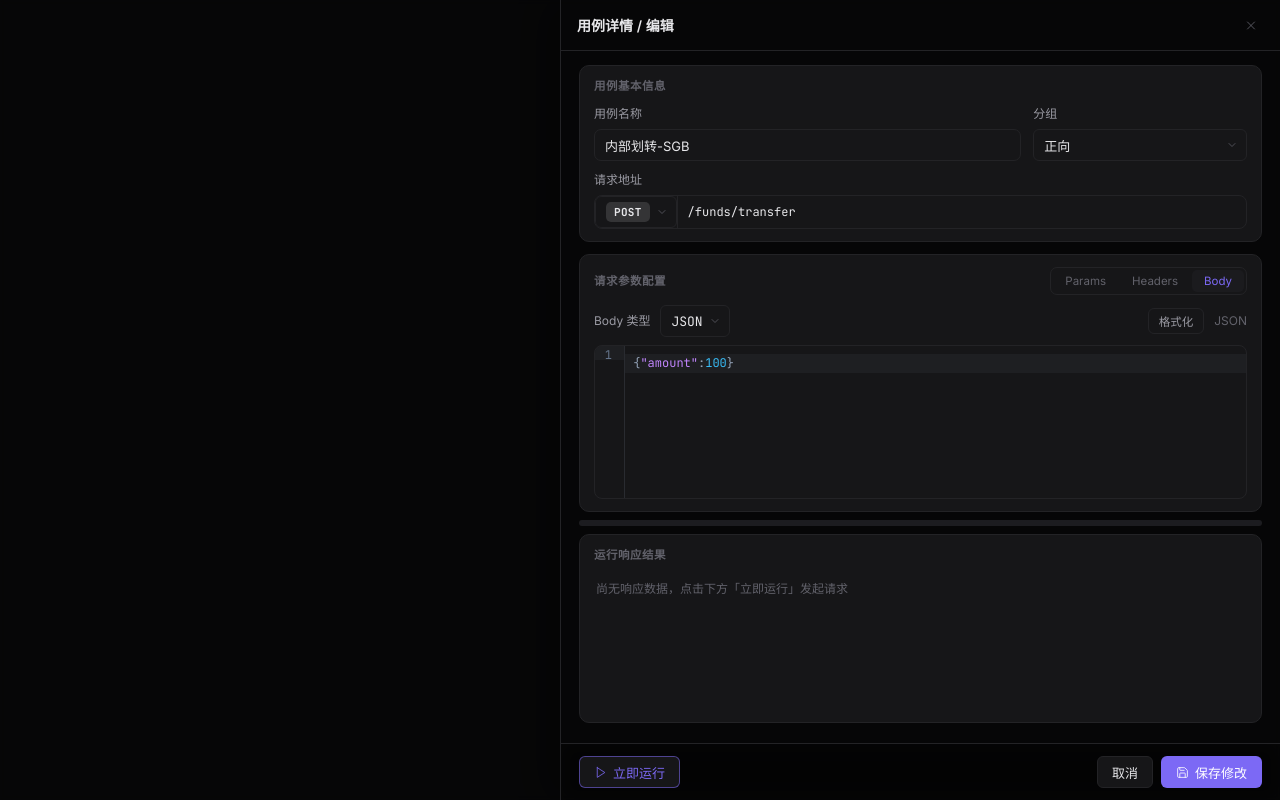
Test case: TestCaseDrawer › 运行失败展示 Failed 与错误信息
The image size is (1280, 800).
What coordinates should you click on to do the following:
click the button "立即运行"
I would click on:
 (630, 772)
Its box is [579,756,680,788].
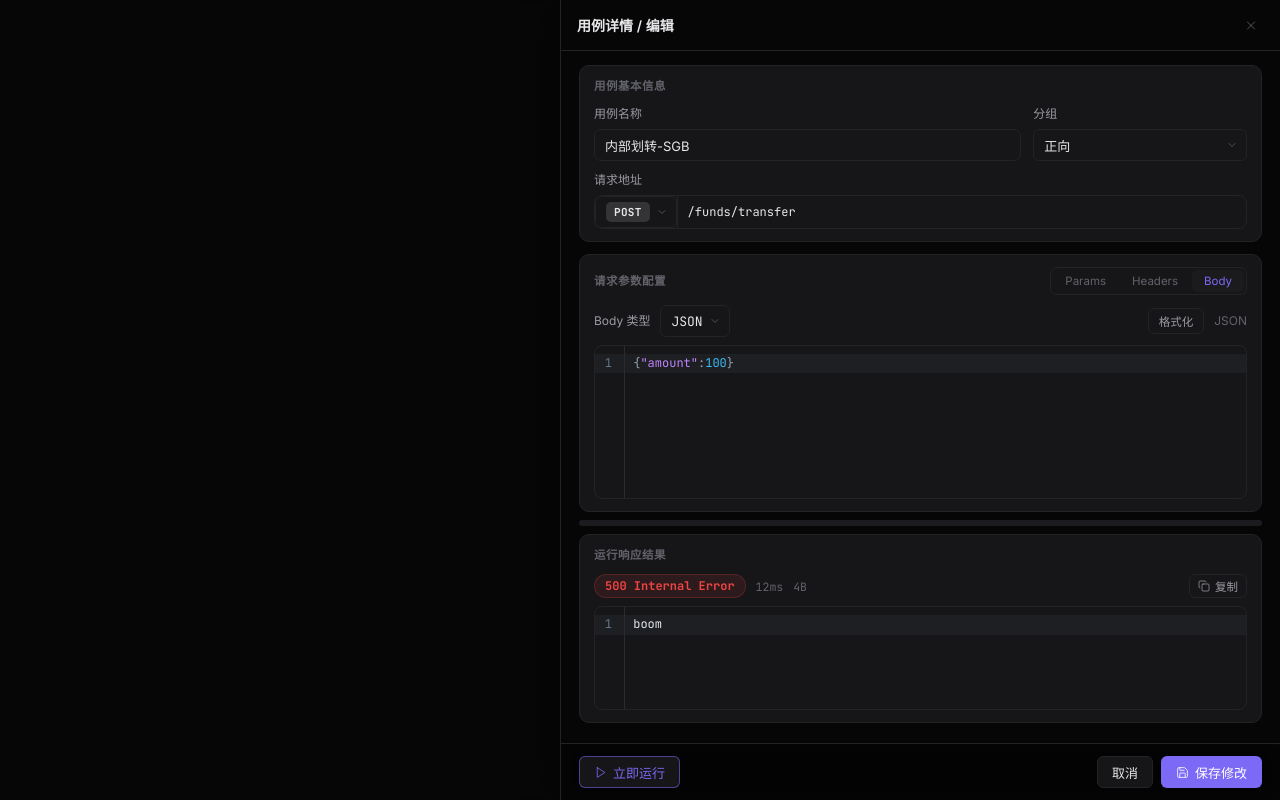
Result: the text "500 Internal Error" is shown at [594,574,746,598]
Result: the text "12ms" is shown at [756,578,783,595]
